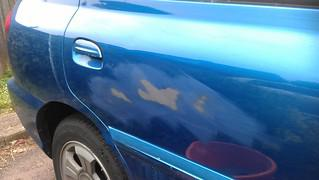doorouter-dent: (83, 0, 248, 168)
